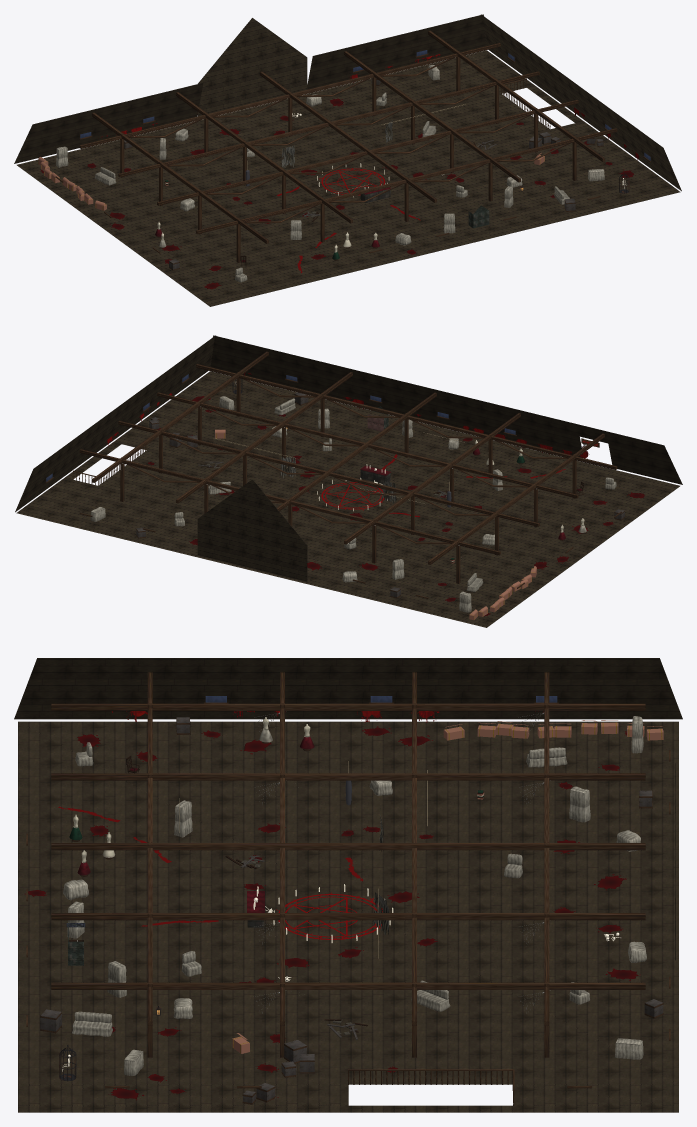
File: house_attic.glb
The picture shows the model from 3 angles, top to bottom: view 1: azimuth 30°, elevation 25°; view 2: azimuth 150°, elevation 25°; view 3: azimuth 270°, elevation 25°; orthographic projection. The views are drawn at different scales.
Parts seen in each view (by area): view 1: house_attic; view 2: house_attic; view 3: house_attic.
Part boxes in pixels (box(x1,y1,x2,y2)): house_attic: box(14, 14, 681, 306); house_attic: box(15, 335, 682, 627); house_attic: box(14, 658, 682, 1112).
Size of the model in its own units: 56.5 by 10.67 by 40.5.
Materials: 46 (36 with a texture image).
